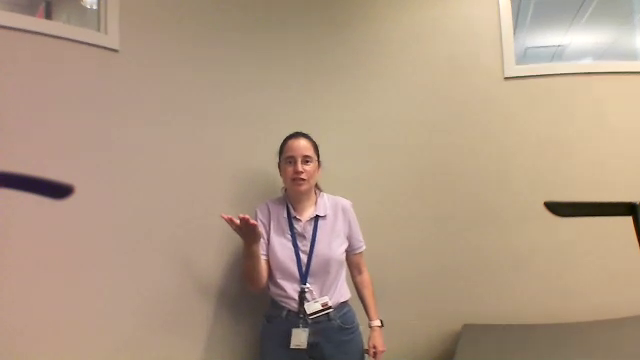land: (208, 201, 269, 246)
